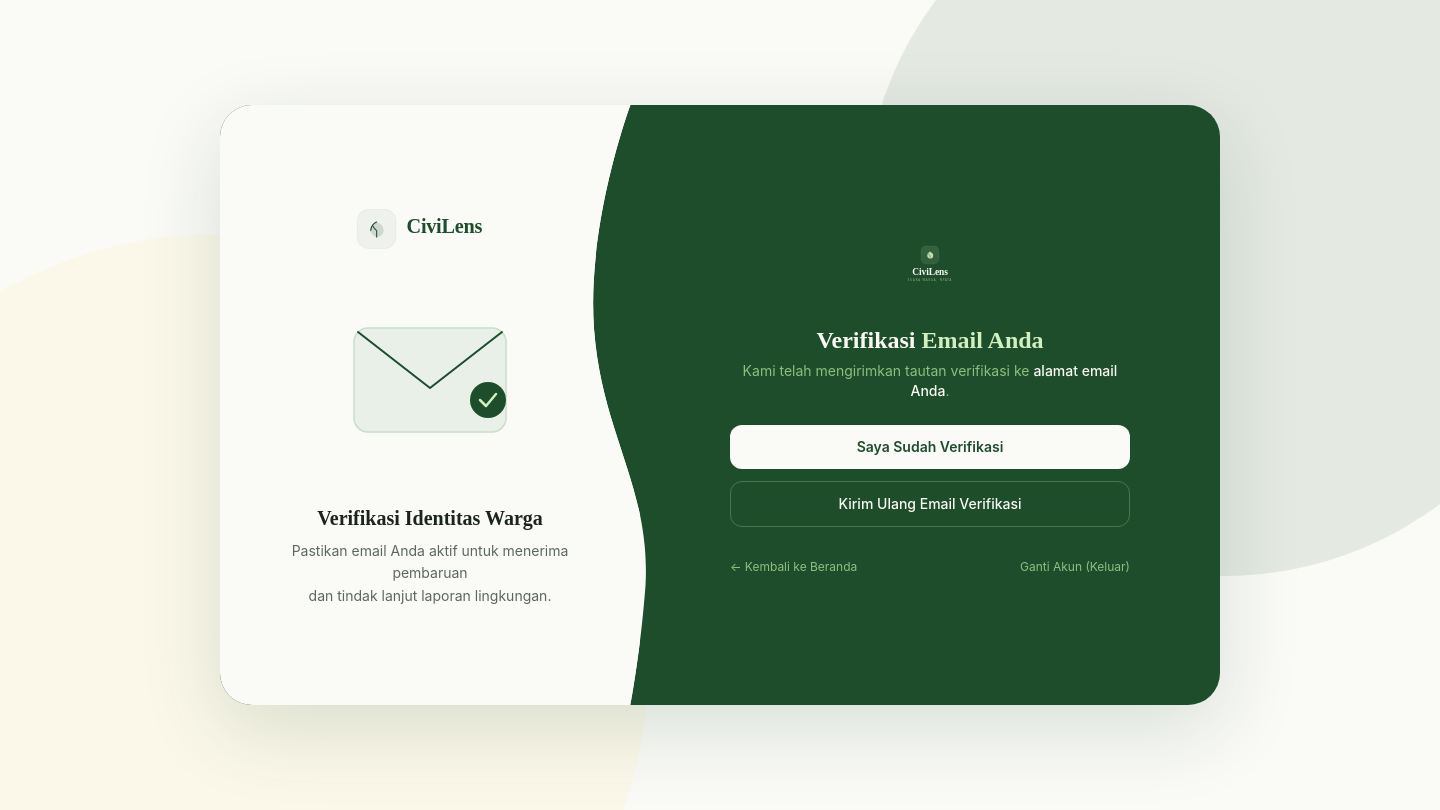
Test: VerifyEmailPage › handles resend verification email with feedback
Click the button "Kirim Ulang Email Verifikasi": {"x": 930, "y": 504} [730,480,1130,526]
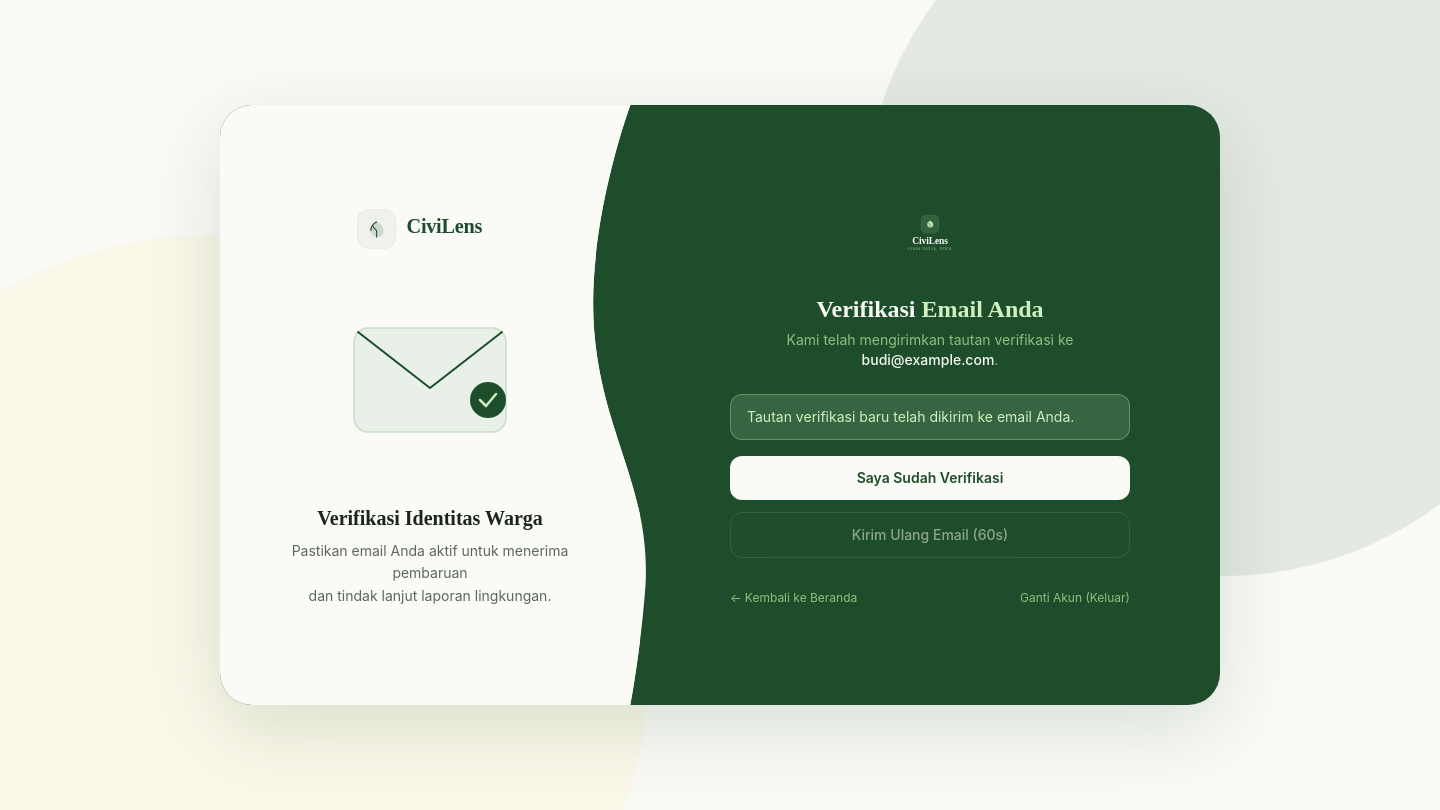
Result: the text "Tautan verifikasi baru telah dikirim ke email Anda." is shown at [730,394,1130,440]
